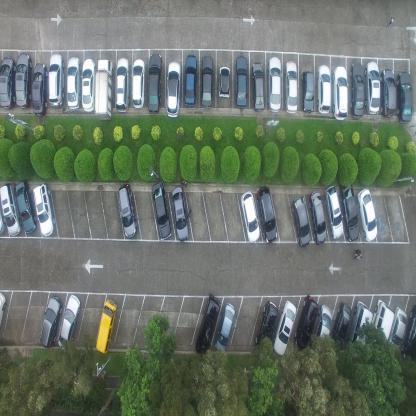car: (194, 292, 221, 357), (346, 300, 374, 360), (368, 300, 395, 360), (255, 300, 280, 358), (57, 293, 81, 353), (295, 295, 319, 351), (274, 300, 298, 356), (94, 298, 118, 354), (32, 182, 56, 237), (14, 180, 37, 235), (39, 294, 62, 348), (340, 181, 360, 243), (94, 56, 113, 121), (0, 181, 22, 236), (258, 186, 278, 245), (152, 181, 172, 240), (117, 183, 138, 239), (214, 301, 236, 354), (386, 308, 408, 359), (240, 190, 260, 245), (358, 187, 378, 242), (330, 302, 352, 352), (312, 304, 333, 356), (324, 186, 344, 240), (292, 195, 312, 248), (310, 190, 328, 246), (15, 50, 32, 108), (171, 186, 188, 243), (147, 51, 162, 114), (166, 60, 182, 119), (349, 61, 365, 119), (0, 54, 16, 110), (48, 51, 64, 106), (333, 64, 348, 121), (401, 306, 415, 366), (115, 56, 130, 112), (380, 67, 396, 119), (200, 53, 215, 108), (365, 60, 380, 115), (32, 62, 47, 117), (268, 55, 282, 113), (397, 70, 412, 124), (66, 56, 81, 110), (184, 53, 198, 108), (284, 58, 298, 113), (316, 63, 331, 114), (131, 56, 145, 108), (82, 57, 95, 112), (235, 55, 248, 108), (252, 60, 265, 112), (301, 68, 315, 112), (219, 65, 230, 98), (0, 290, 7, 333)
